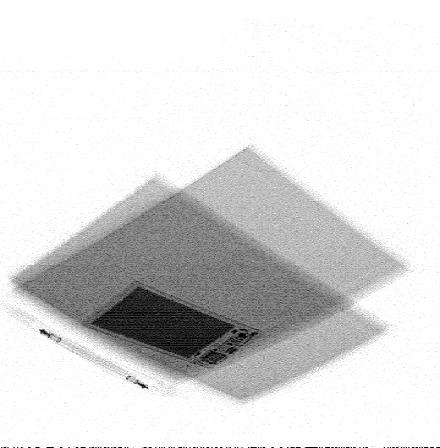Powerbank: (80, 278, 265, 371)
